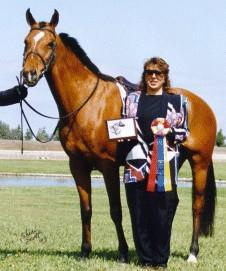person: (121, 56, 190, 271)
